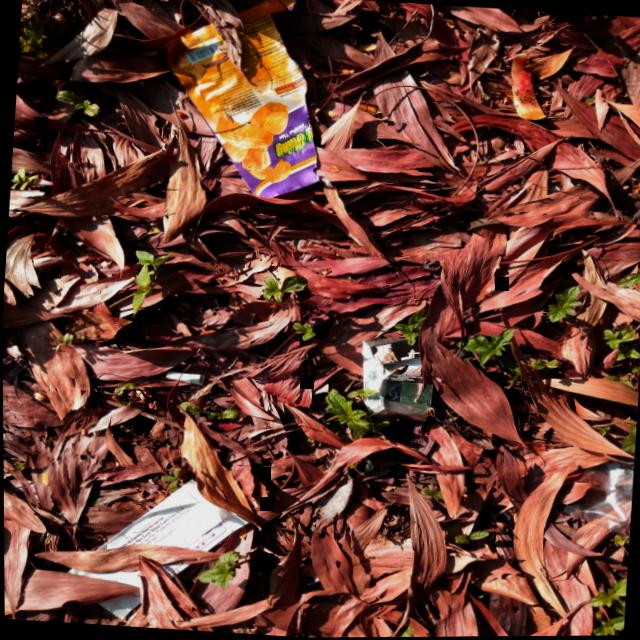Other carton: (360, 336, 433, 421), (165, 371, 205, 386)
Other plastic: (166, 0, 332, 197)
Plastic film: (561, 456, 633, 537)
